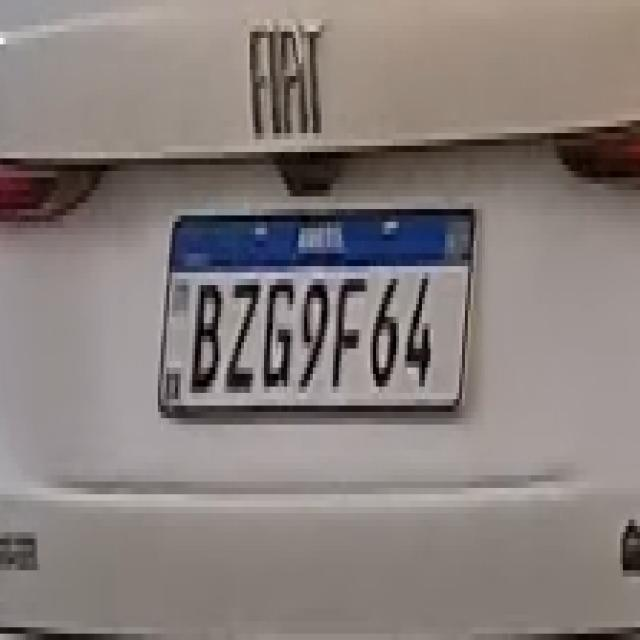Placa_mercosul_carro: (158, 201, 477, 413)
